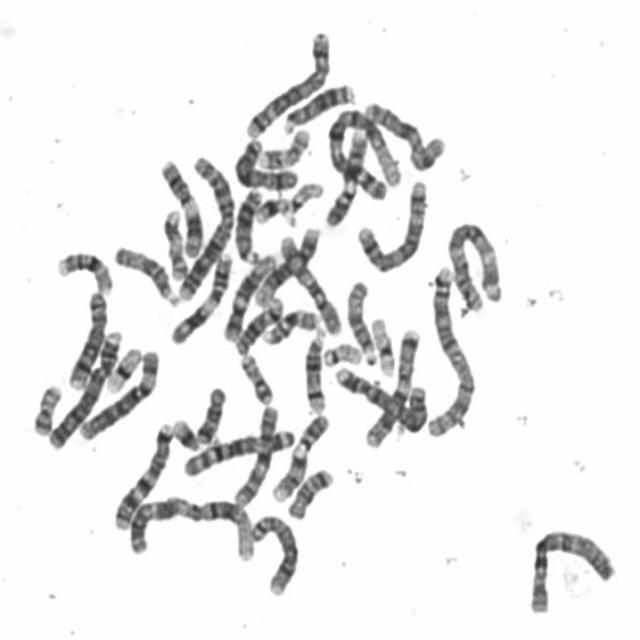A1: (121, 487, 259, 564), (324, 101, 402, 200)
A2: (422, 261, 478, 439), (174, 147, 237, 303)
A3: (443, 214, 507, 314), (178, 429, 294, 480)
B4: (42, 322, 126, 452), (330, 359, 430, 435)
B5: (241, 23, 334, 139), (352, 173, 431, 274)
C10: (274, 227, 345, 337), (229, 399, 282, 509)
C11: (165, 245, 236, 348), (155, 152, 207, 260)
C12: (248, 220, 322, 308), (219, 245, 279, 343)
C6: (524, 520, 619, 616), (74, 340, 163, 442)
C7: (360, 322, 424, 451), (108, 415, 176, 532)
C8: (244, 506, 302, 599), (65, 284, 112, 390)
C9: (266, 406, 332, 504), (320, 124, 371, 228)
D13: (276, 75, 358, 136), (230, 181, 266, 265)
D14: (231, 289, 287, 356), (299, 320, 330, 416)
D15: (109, 237, 182, 308), (340, 273, 380, 367)
E16: (52, 243, 116, 297), (258, 302, 324, 346)
E17: (254, 122, 314, 170), (158, 202, 191, 282)
E18: (283, 462, 337, 520), (191, 380, 229, 448)
F19: (100, 339, 145, 395), (364, 310, 398, 378)
F20: (236, 346, 276, 406), (28, 376, 65, 437)
G21: (250, 190, 292, 226), (168, 412, 202, 452)
G22: (283, 174, 327, 216), (318, 336, 365, 368)
X: (360, 93, 450, 173), (229, 131, 300, 192)
